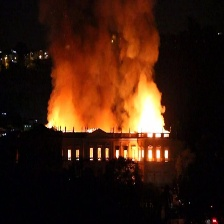fire: (48, 90, 172, 165)
smoke: (32, 1, 181, 103)
